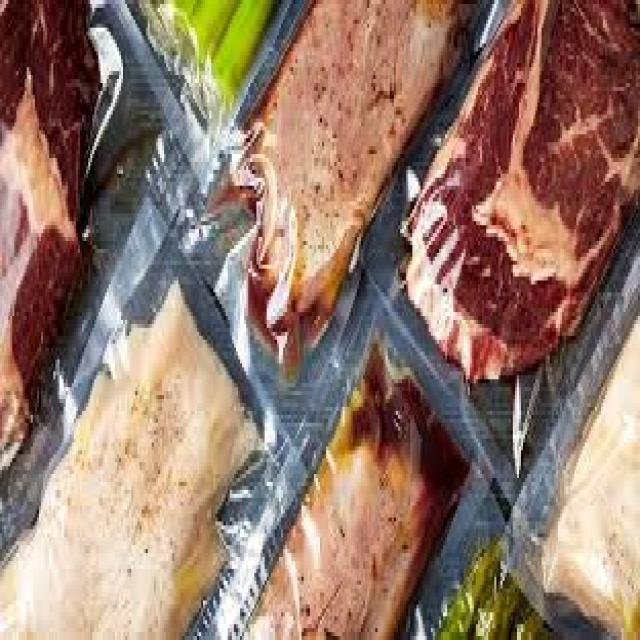Organik: (2, 0, 640, 640), (134, 0, 640, 363), (0, 3, 89, 438)
